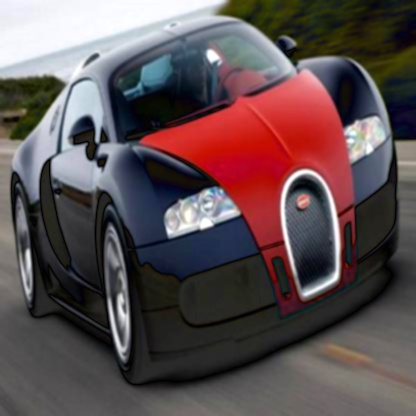Vehicle: (10, 10, 401, 384)
